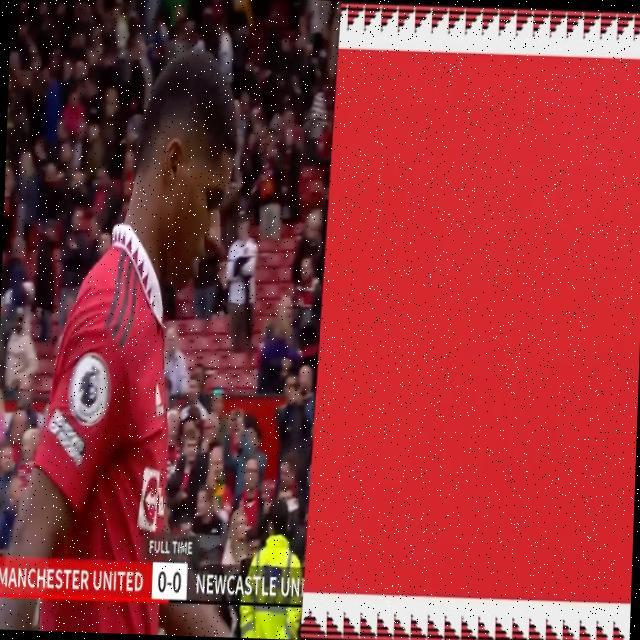TeamViewer: (137, 468, 167, 532)
